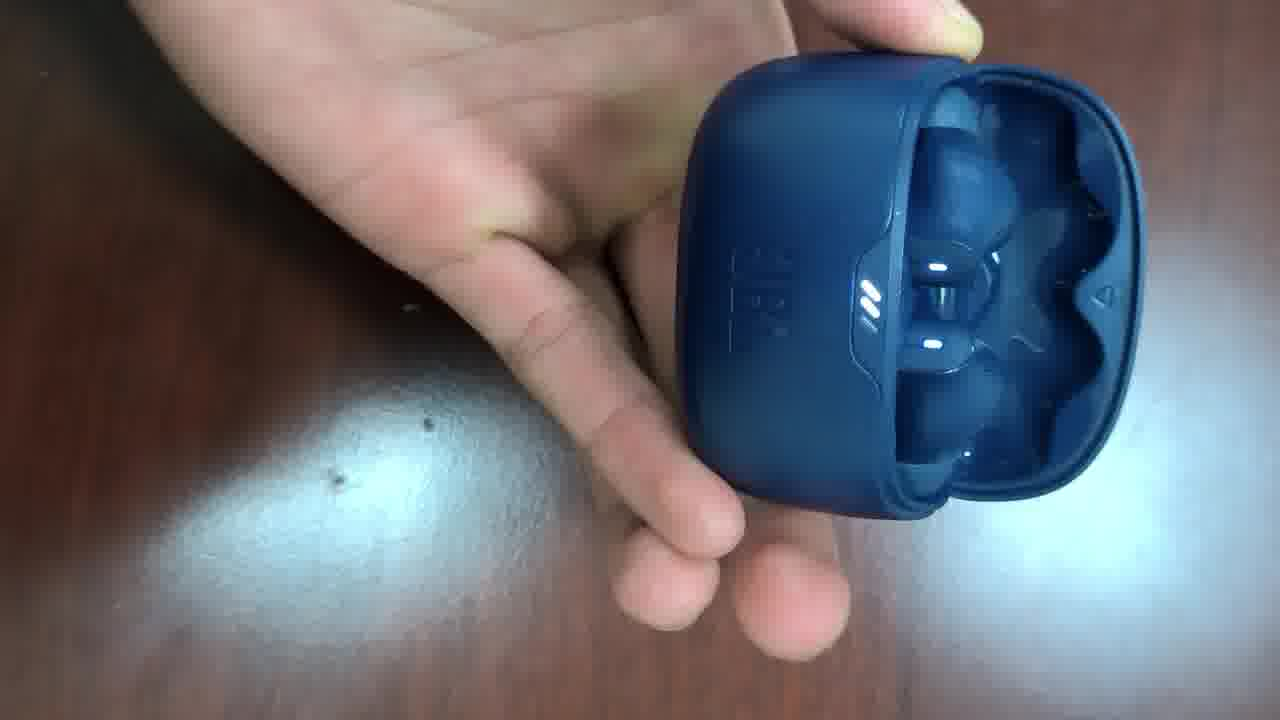Case: (675, 51, 1143, 518)
Earbud: (903, 125, 1022, 281), (893, 316, 1012, 472)
